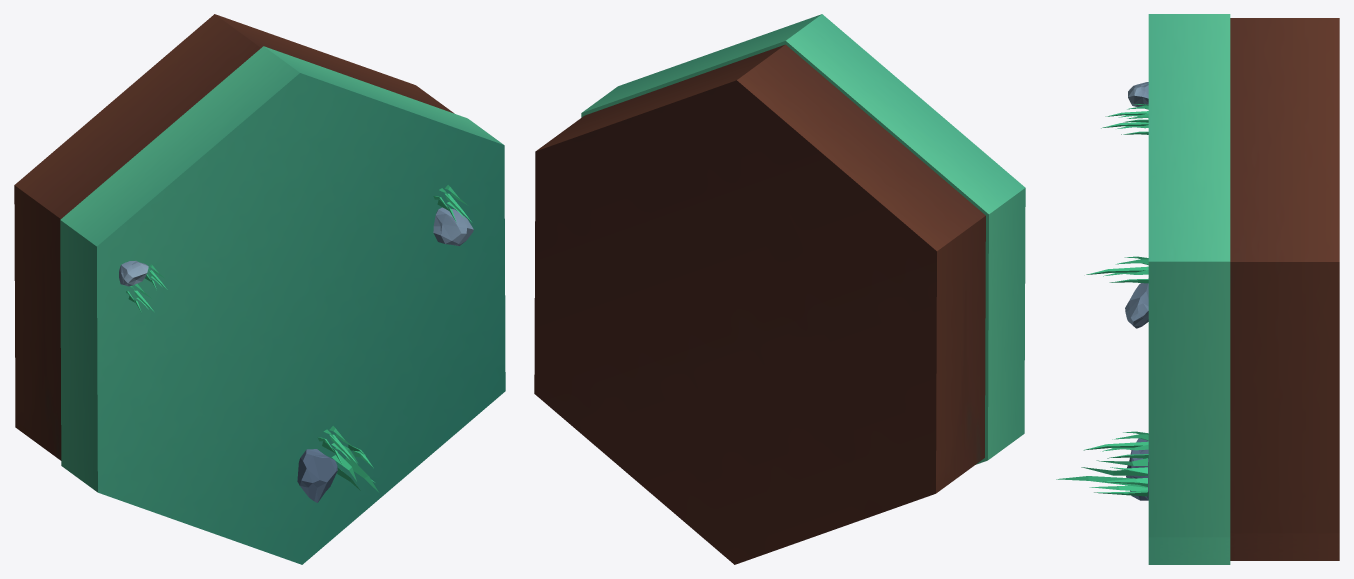
Rendered from WIESE_1.fbx.
3 views of the same model, side by side, from view 1: azimuth 30°, elevation 25°; view 2: azimuth 150°, elevation 25°; view 3: azimuth 270°, elevation 25° (orthographic). The views are drawn at different scales.
Parts seen in each view (by area): view 1: WIESE_1; view 2: WIESE_1; view 3: WIESE_1.
Part boxes in pixels (bbox=[...]): WIESE_1: bbox=[14, 14, 505, 564]; WIESE_1: bbox=[534, 14, 1025, 564]; WIESE_1: bbox=[1056, 14, 1339, 564].
Size of the model in its own units: 173 by 199 by 93.4.
